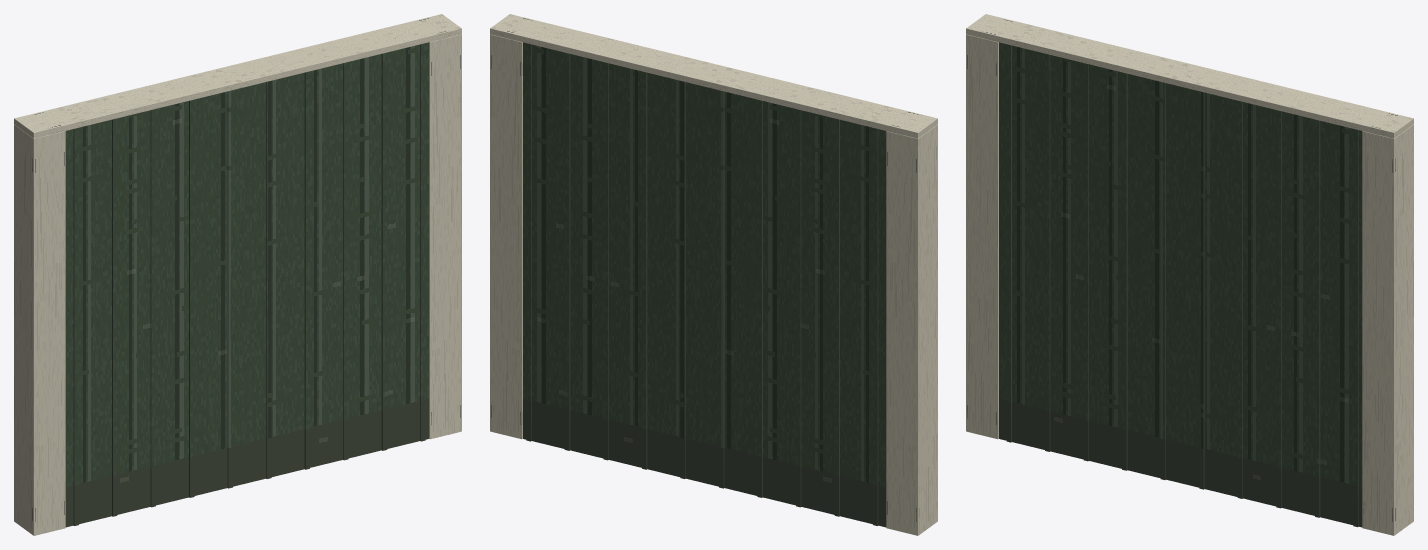
File: house_04_wall_solid.glb
3 views of the same model, side by side, from view 1: azimuth 30°, elevation 25°; view 2: azimuth 150°, elevation 25°; view 3: azimuth 330°, elevation 25° (orthographic).
Parts seen in each view (by area): view 1: house_04_wall_solid; view 2: house_04_wall_solid; view 3: house_04_wall_solid.
Boxes of the visible parts, bbox=[...] form: house_04_wall_solid: bbox=[14, 14, 461, 535]; house_04_wall_solid: bbox=[490, 14, 937, 535]; house_04_wall_solid: bbox=[966, 14, 1413, 535].
Bounding box in the file's own units: 3 × 2.7 × 0.24.
Materials: 2 (2 with a texture image).
